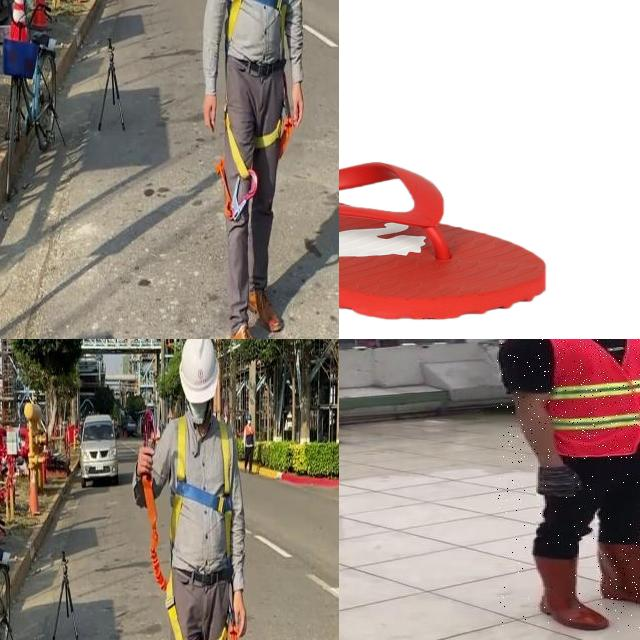Harness: (172, 416, 234, 562), (142, 477, 186, 640), (217, 110, 259, 222)
Sandals: (339, 149, 547, 322)
boots: (526, 548, 612, 632), (597, 539, 640, 612)
person: (497, 339, 640, 632)
vest: (507, 339, 640, 458)
